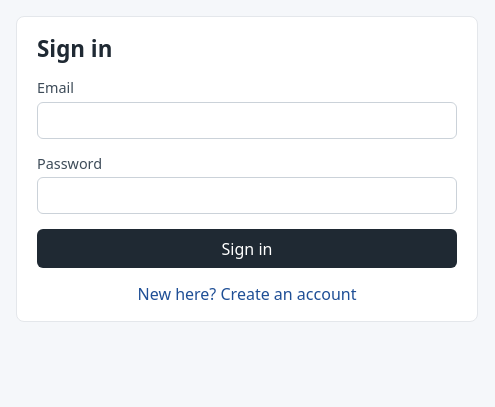
Scenario: LoginPage › shows the server message on bad credentials and stays on the page
This screenshot has width=495, height=407.
Type "sam@x.io" into the field labelled "Email" at (247, 121), box x1=37 y1=102 x2=457 y2=139
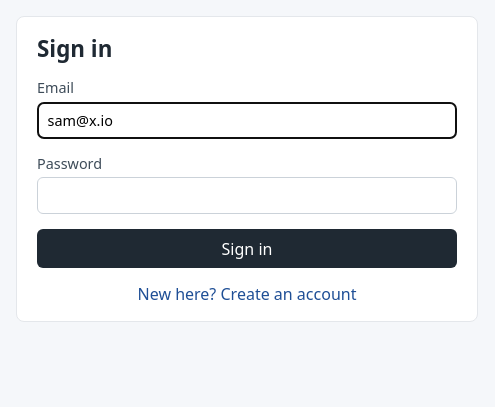
Type "wrong-pass" into the password field labelled "Password" at (247, 196), box x1=37 y1=177 x2=457 y2=214
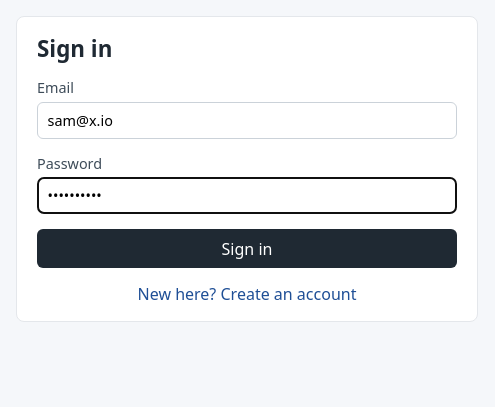
Click the button "Sign in" at (247, 249), box x1=37 y1=229 x2=457 y2=268
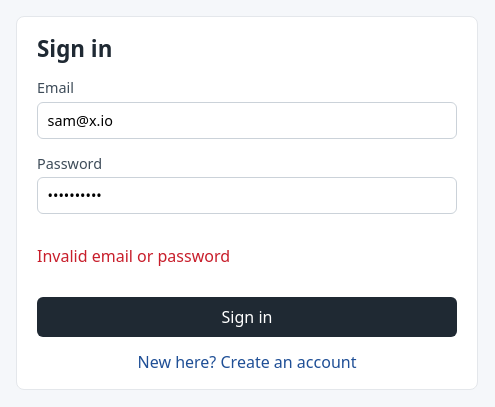
expect the message reads "Invalid email or password": met, box x1=37 y1=245 x2=230 y2=267
